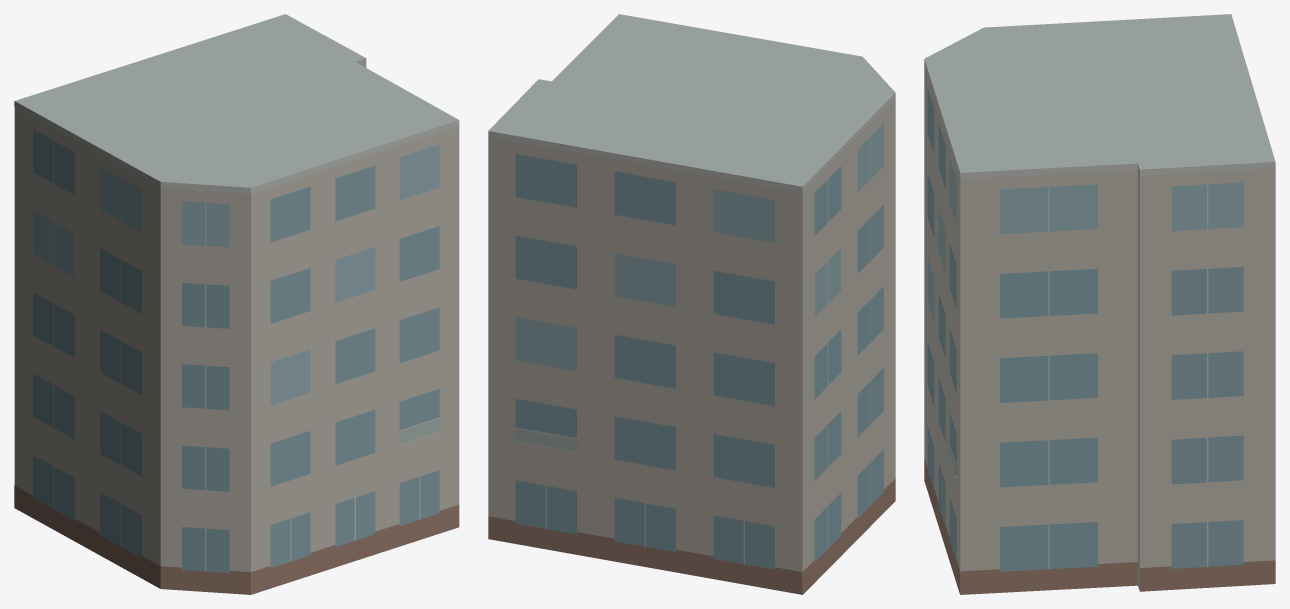
File: survey-upis-32520586.glb
3 renders of one model, left to right at view 1: azimuth 30°, elevation 25°; view 2: azimuth 150°, elevation 25°; view 3: azimuth 270°, elevation 25°, orthographic. The views are drawn at different scales.
Visible parts, largest first — view 1: survey-upis-32520586.tmp; view 2: survey-upis-32520586.tmp; view 3: survey-upis-32520586.tmp.
Boxes of the visible parts, bbox=[...] form: survey-upis-32520586.tmp: bbox=[14, 14, 459, 594]; survey-upis-32520586.tmp: bbox=[488, 14, 895, 594]; survey-upis-32520586.tmp: bbox=[924, 14, 1275, 594].
Size of the model in its own units: 13.41 by 16.6 by 12.53.
